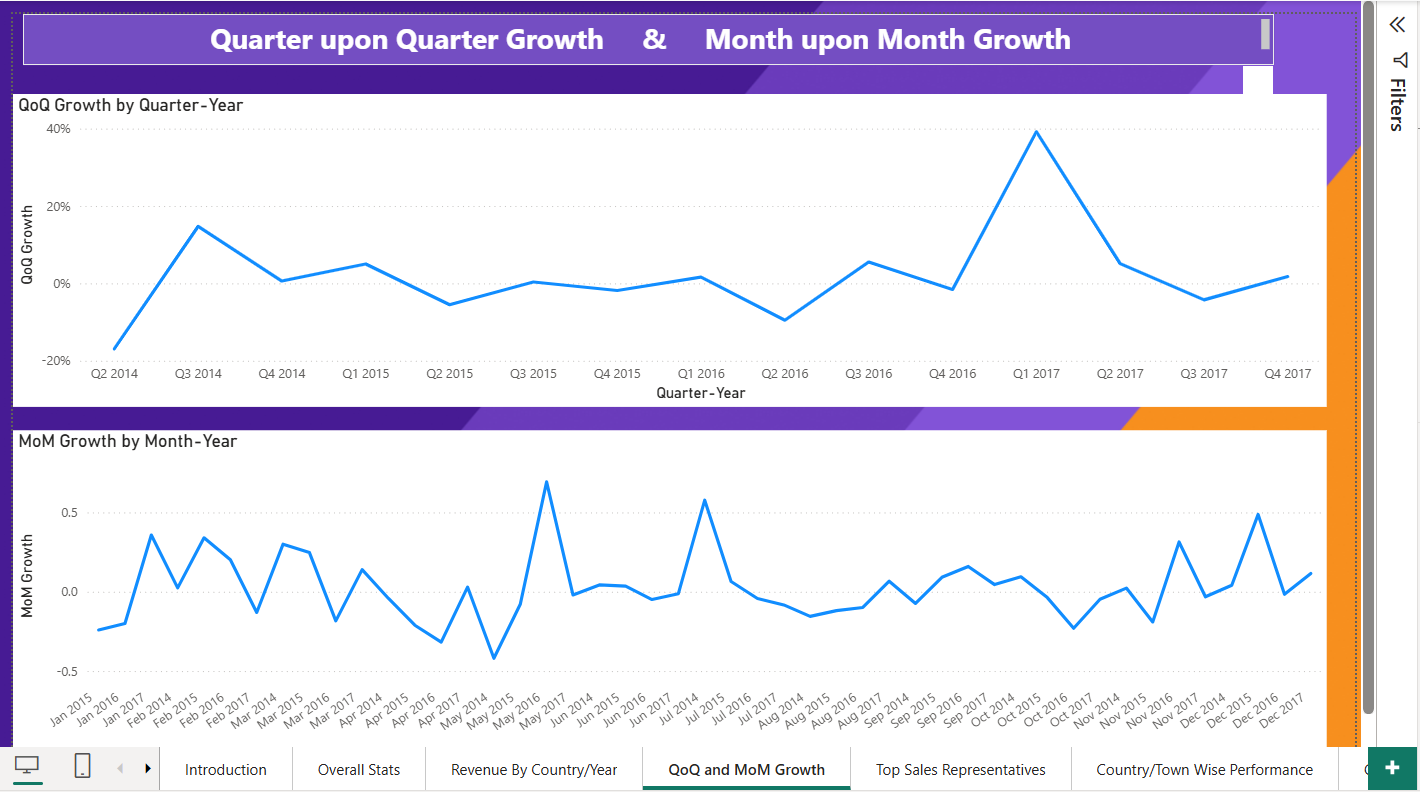

What the dashboard file says about the page in this screenshot:
{"tool":"powerbi","page":{"name":"QoQ and MoM Growth","canvas":[1280,720],"ordinal":3},"visuals":[{"type":"textbox","box":[9.1,0,1193.5,48.7],"z":0},{"type":"lineChart","fields":{"Category":["CalendorMaster.Quarter-Year"],"Y":["FactSales.QoQ Growth"]},"box":[0,76.1,1252.9,298.4],"z":1000},{"type":"lineChart","fields":{"Category":["CalendorMaster.Month-Year"],"Y":["FactSales.MoM Growth"]},"box":[0,397.3,1252.9,322.7],"z":2000}]}

Visuals, with their boxes in screenshot pixels (x1, y1, x2, y2):
textbox: [17, 0, 1311, 49]
lineChart - CalendorMaster.Quarter-Year x FactSales.QoQ Growth: [7, 79, 1365, 402]
lineChart - CalendorMaster.Month-Year x FactSales.MoM Growth: [7, 427, 1365, 777]
